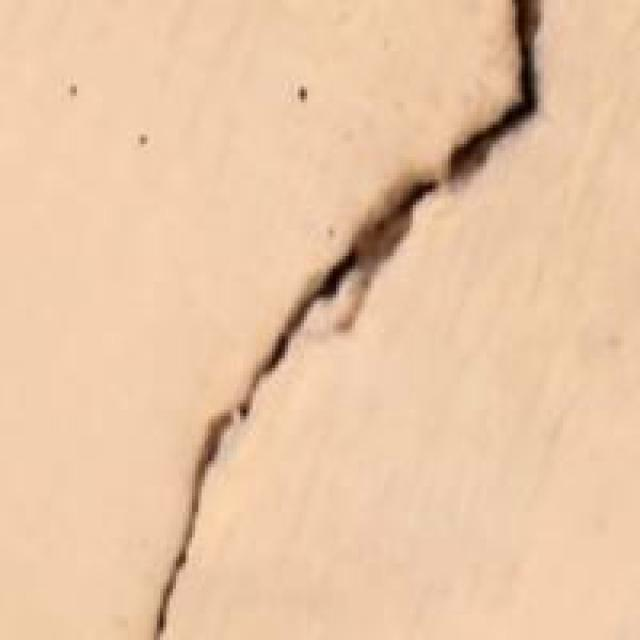crack: (54, 2, 560, 640)
